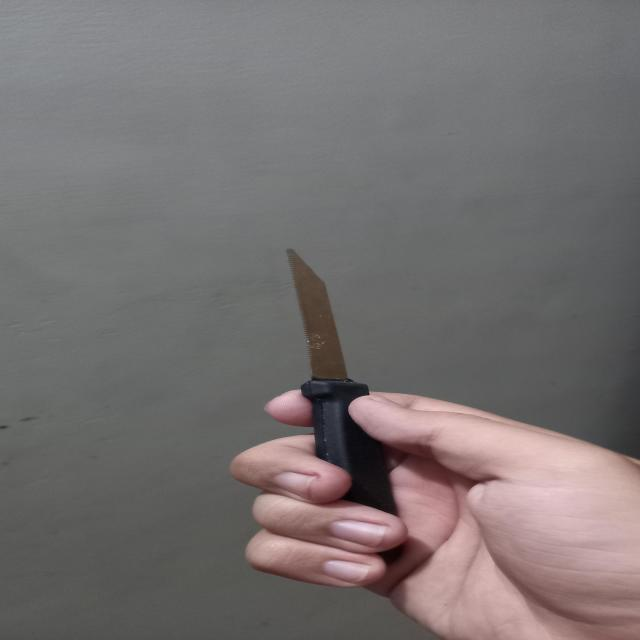Knife: (256, 235, 398, 561)
